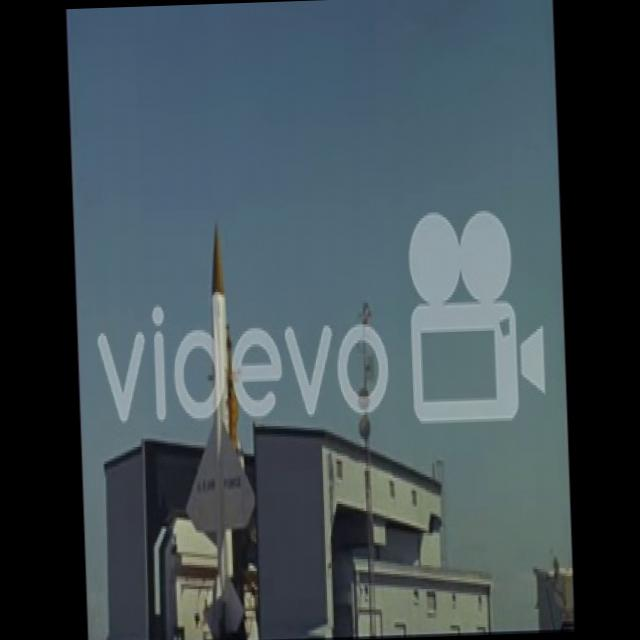rocket: (180, 224, 258, 560)
